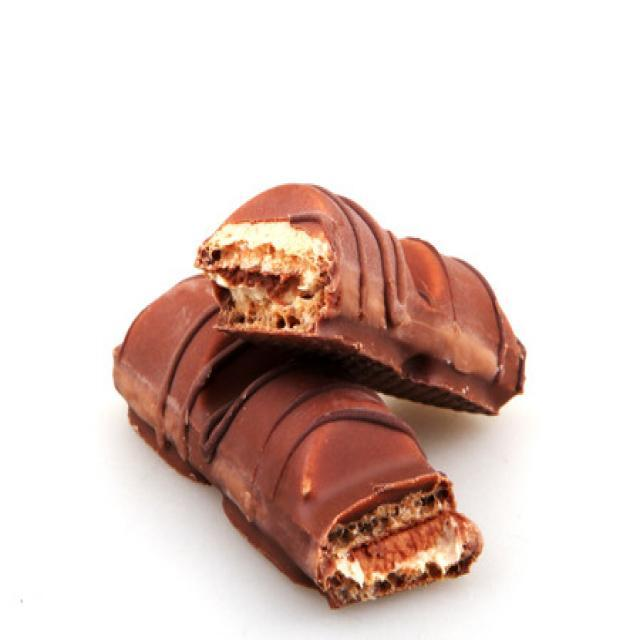Chocolate bar packaged: (113, 264, 484, 610), (195, 175, 527, 427)
